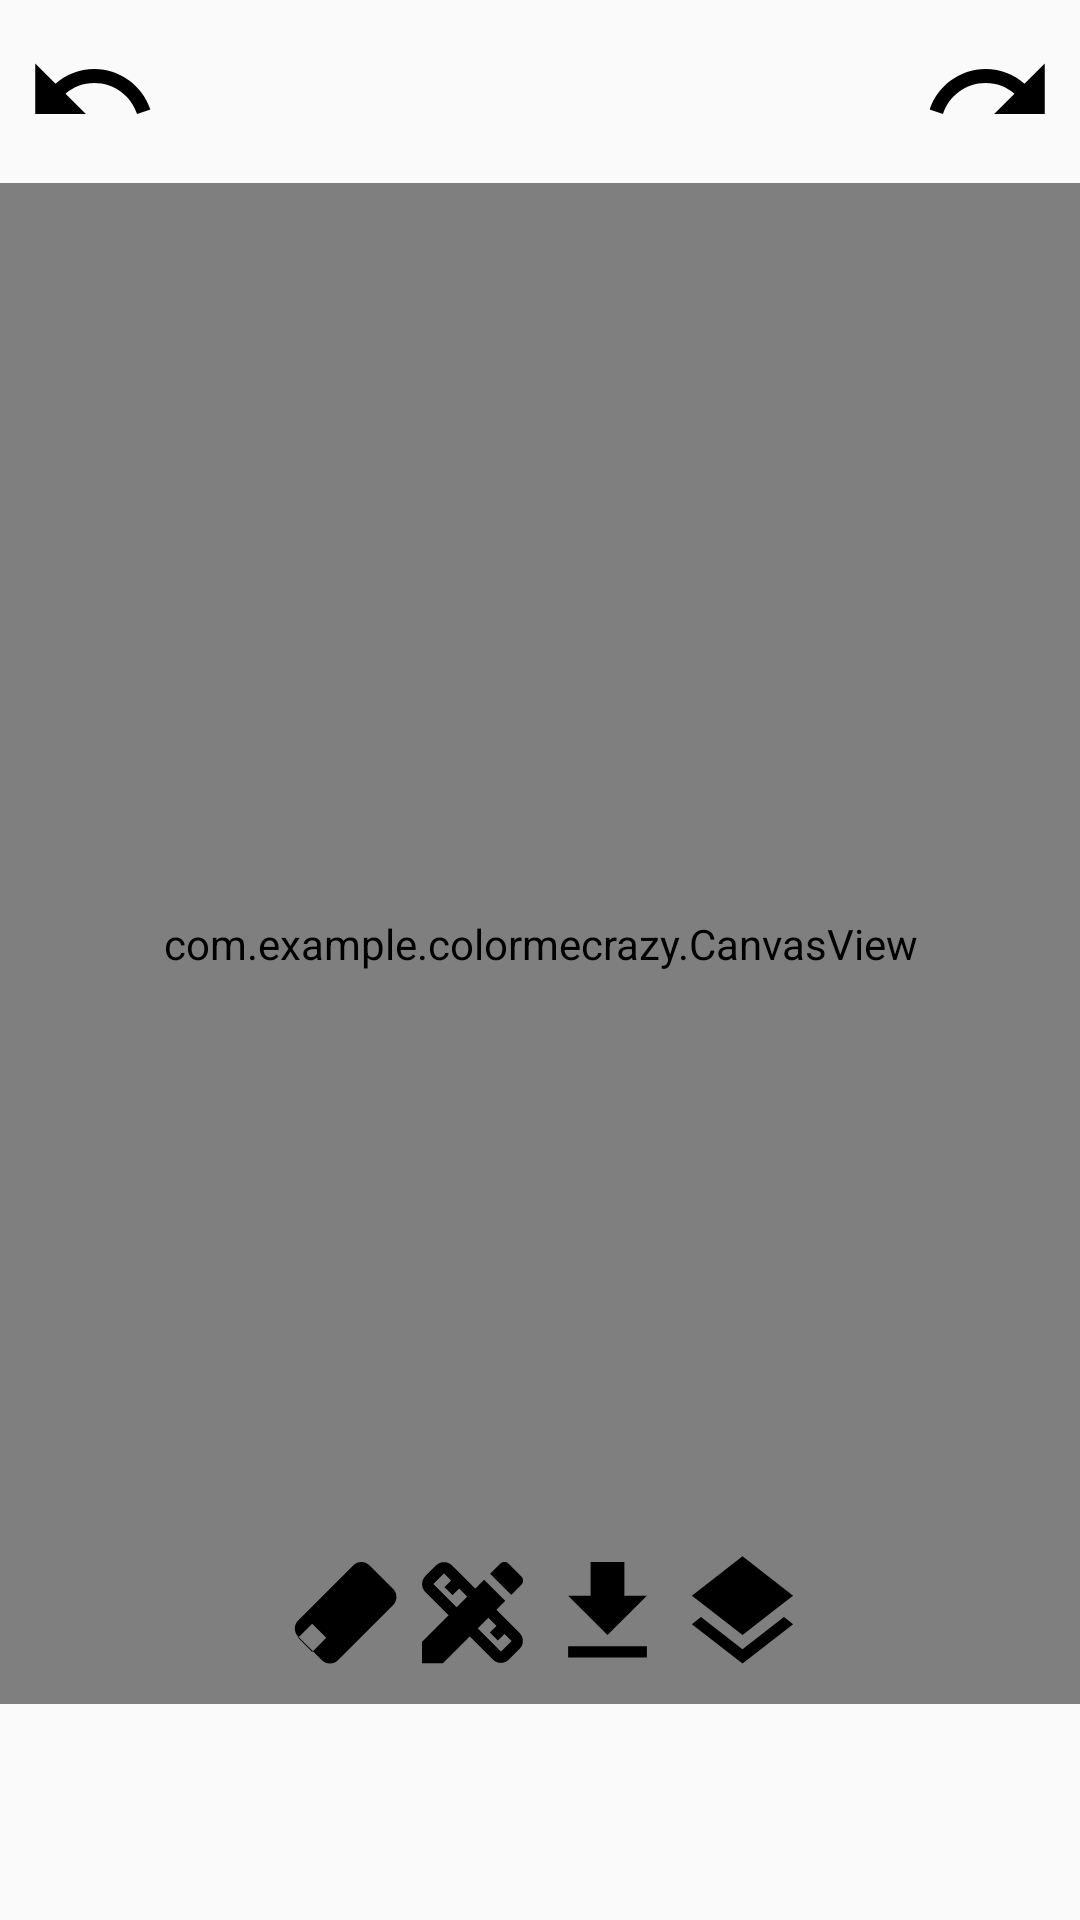

Locate icon controls on the screen. Image size 1080 x 1920, boxes as (x1, y1, x2, y2).
Erase: (295, 1562, 397, 1664)
Layers: (692, 1556, 793, 1664)
Redo: (929, 63, 1045, 114)
Save: (568, 1562, 647, 1658)
Undo: (35, 63, 151, 114)
Выбор инструмента: (422, 1562, 523, 1664)
